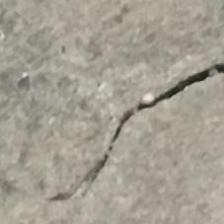Crack: (35, 50, 224, 210)
